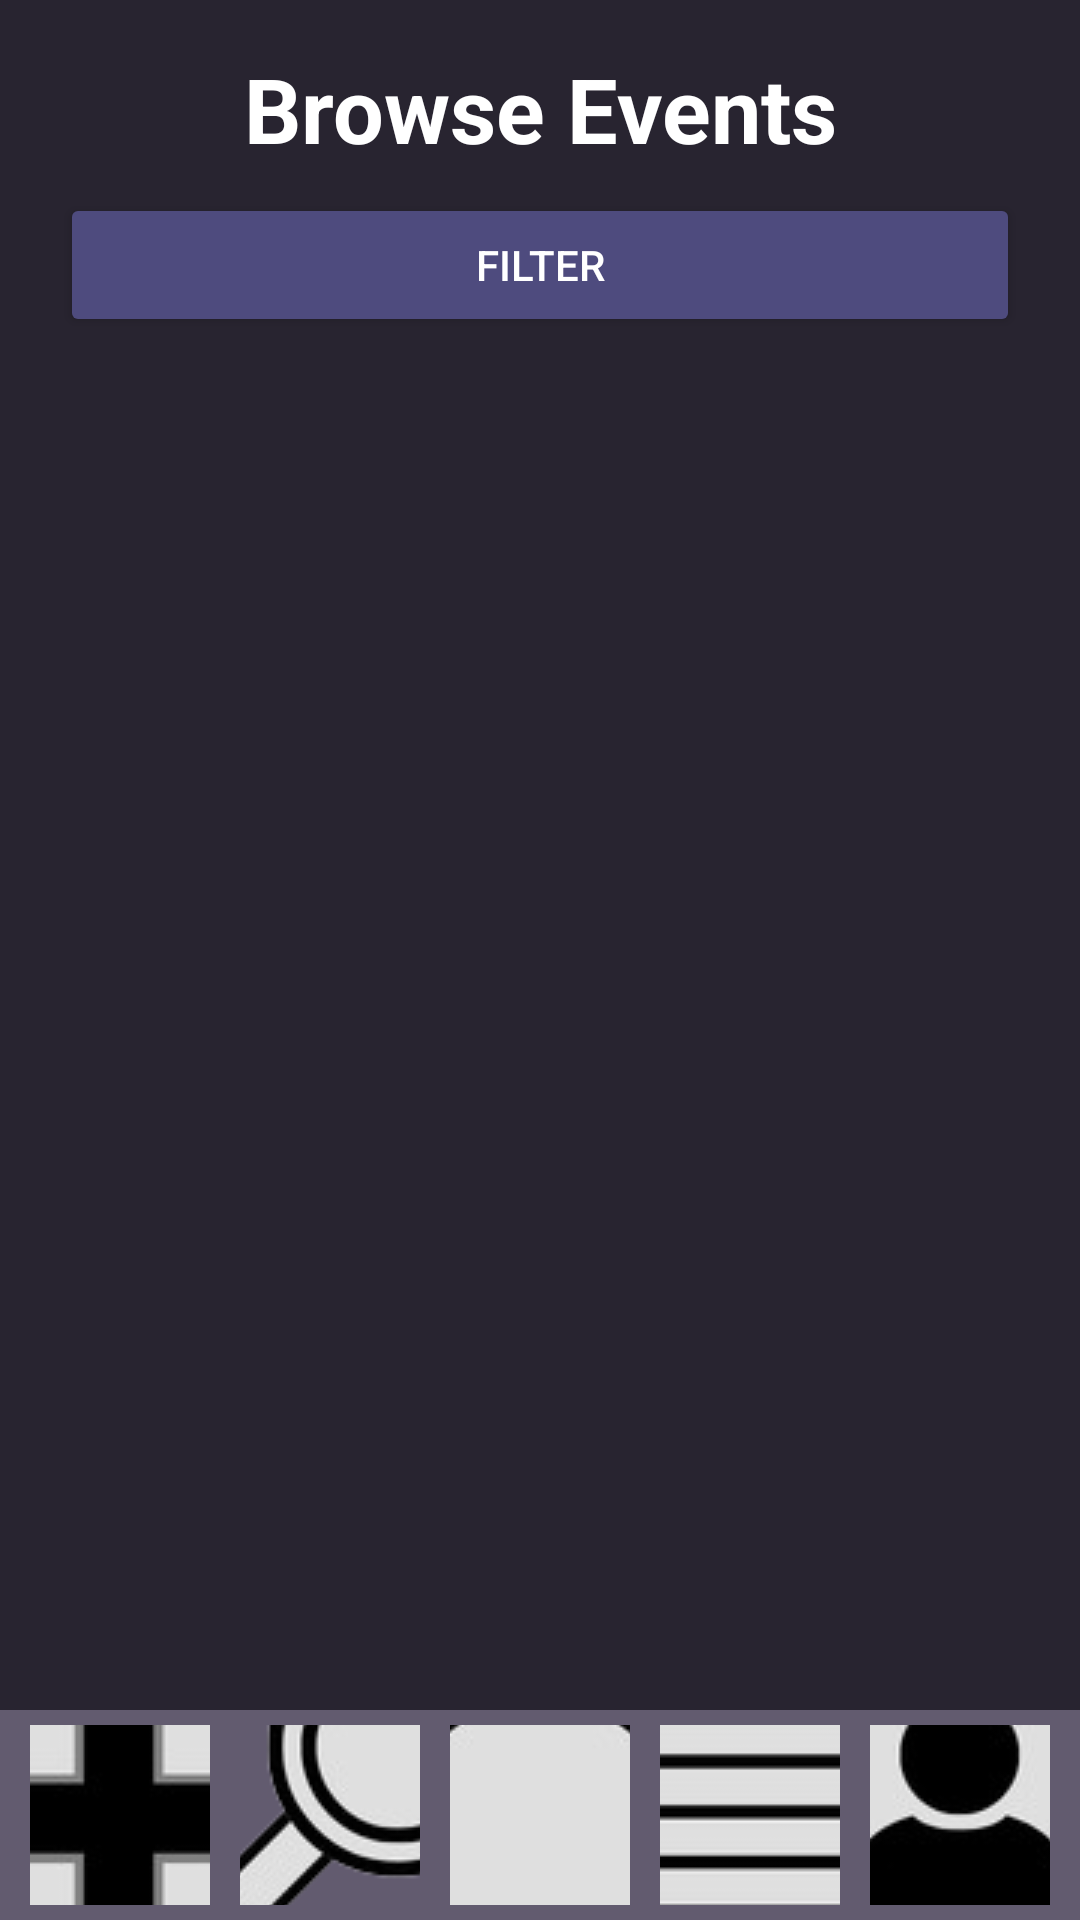

Icons on this 1080px×1920px Android screen, each with its box as (x1, y1, x2, y2):
browseicon: (660, 1725, 840, 1905)
neweventicon: (30, 1725, 210, 1905)
profileicon: (870, 1725, 1050, 1905)
searchicon: (240, 1725, 420, 1905)
